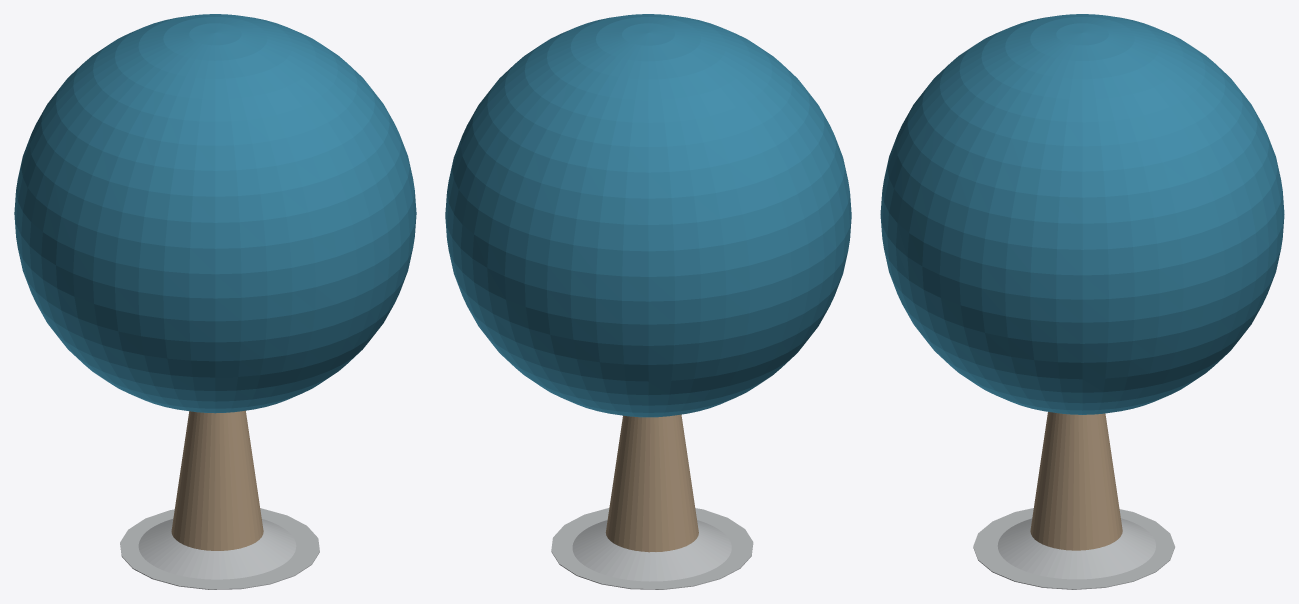
File: SecondaryTreeBlue.glb
3 renders of one model, left to right at view 1: azimuth 30°, elevation 25°; view 2: azimuth 150°, elevation 25°; view 3: azimuth 270°, elevation 25°, orthographic.
Parts seen in each view (by area): view 1: Mesh_Mesh_head_geo.001_lambert2SG.001; view 2: Mesh_Mesh_head_geo.001_lambert2SG.001; view 3: Mesh_Mesh_head_geo.001_lambert2SG.001.
Boxes of the visible parts, left/top/right/bottom form: Mesh_Mesh_head_geo.001_lambert2SG.001: left=14, top=14, right=416, bottom=589; Mesh_Mesh_head_geo.001_lambert2SG.001: left=445, top=14, right=851, bottom=589; Mesh_Mesh_head_geo.001_lambert2SG.001: left=880, top=14, right=1284, bottom=589.
Size of the model in its own units: 5 by 7.02 by 5.
